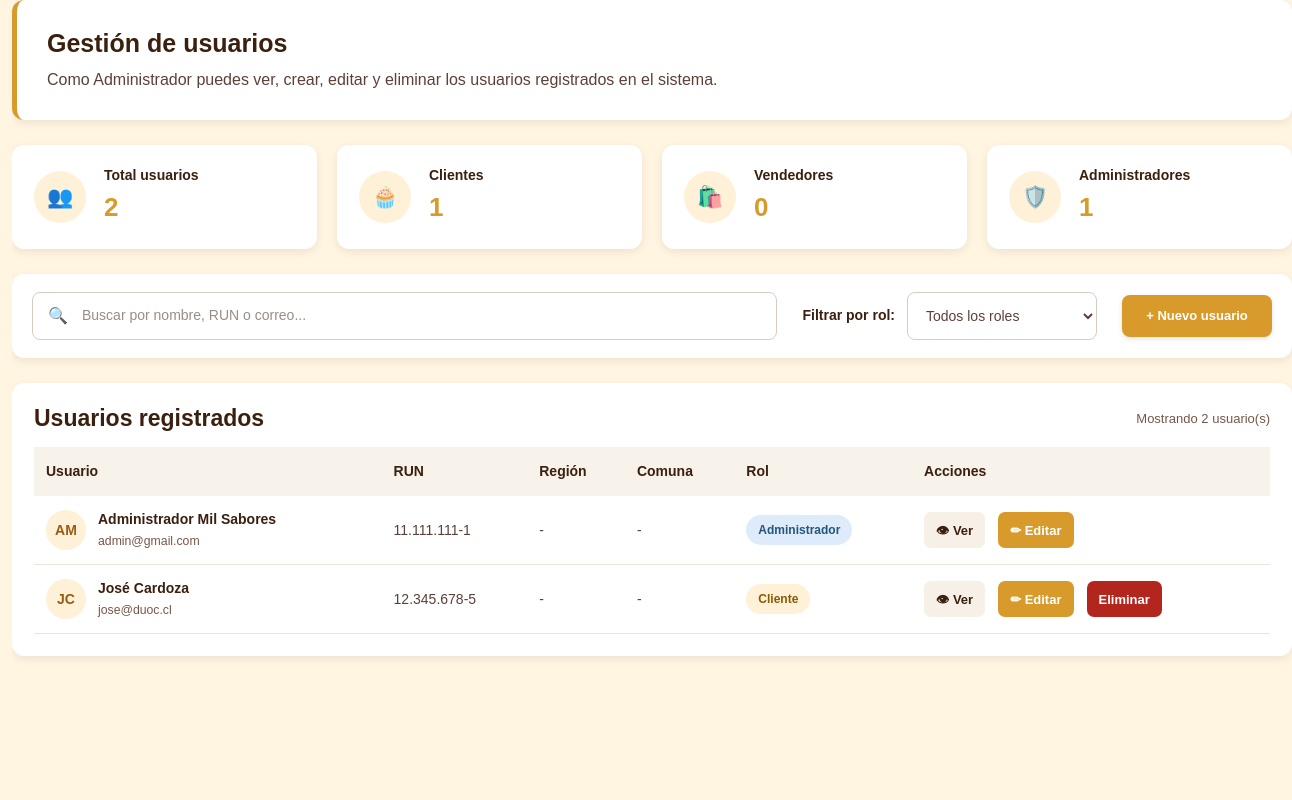
Test: S3-10 - Página UsuariosAdmin conectada a la API › elimina un usuario con confirmación y quita su fila
The image size is (1292, 800).
Expected: the text "Mostrando 2 usuario(s)" is shown, [1136,409,1270,428]
Click the button with aria-label "Eliminar a José Cardoza": (1124, 599) [1086,581,1162,617]
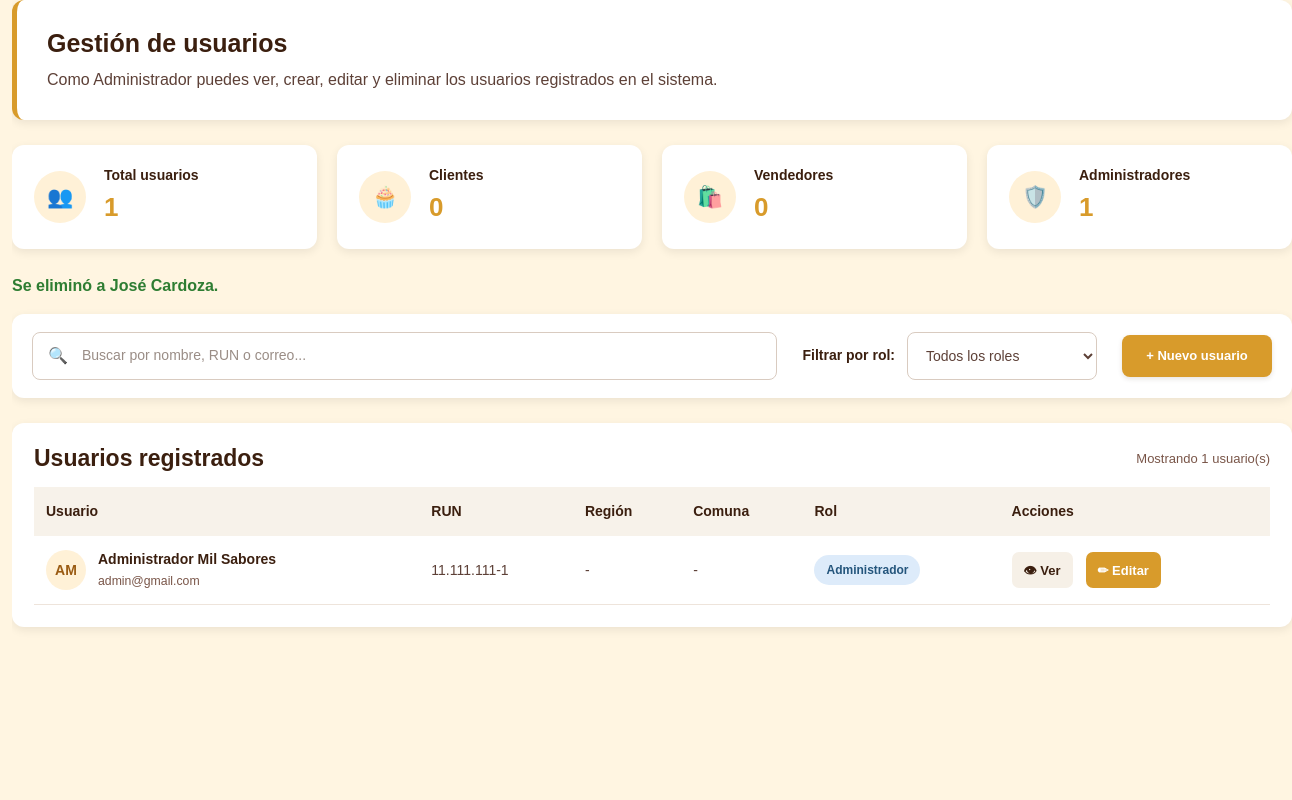
Expected: the text "Mostrando 1 usuario(s)" is shown, [1136,449,1270,468]
Expected: the message reads "Se eliminó a José Cardoza.", [12,277,218,294]
